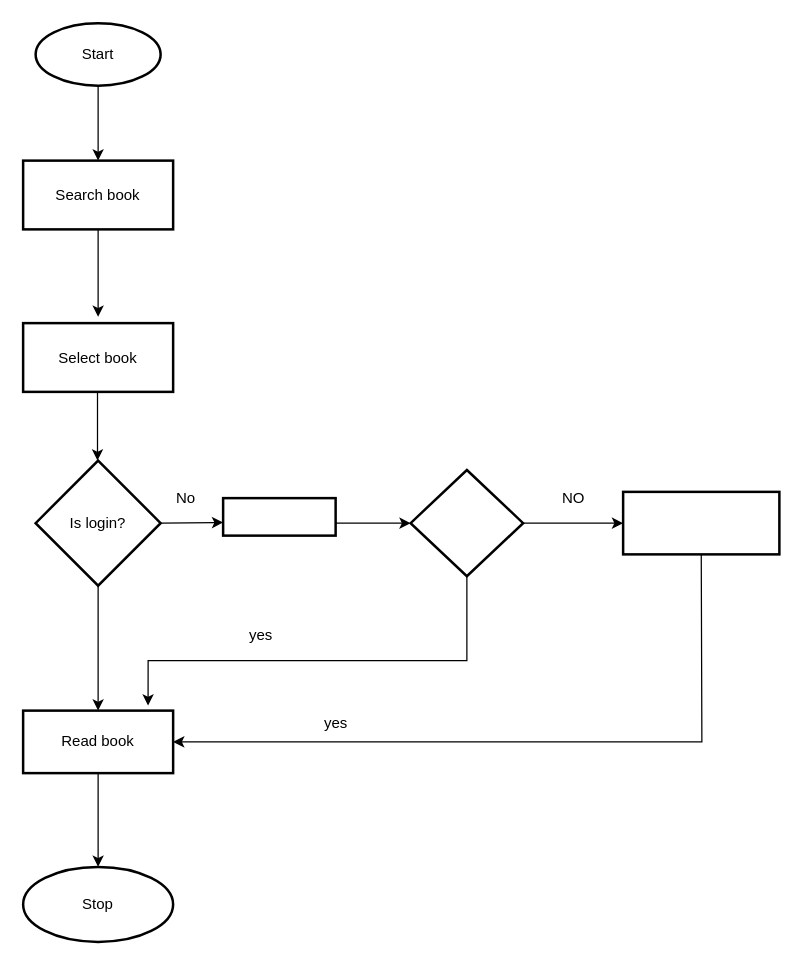
Image size: 801x964. Some labels were removed from this diagram. Here are the shapes that lost their labels. From the top down, the box of each, then its label:
(221, 496, 336, 536): login
(409, 468, 524, 577): Is registered?
(621, 490, 780, 555): Signup
